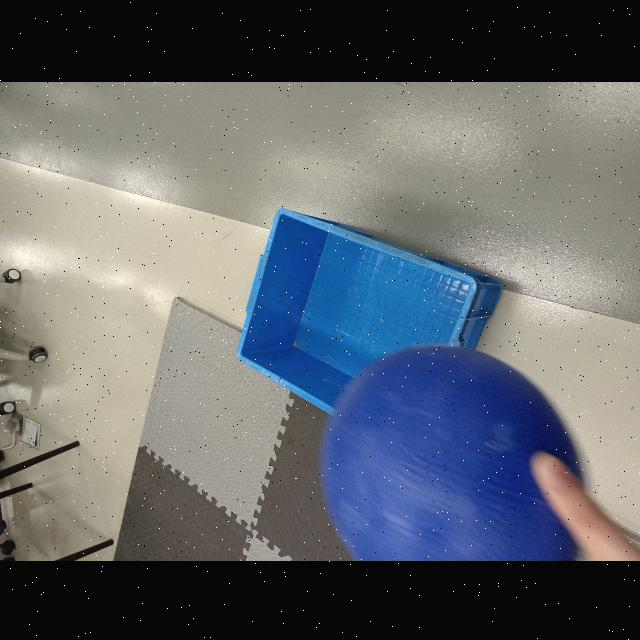B: (324, 346, 586, 560)
